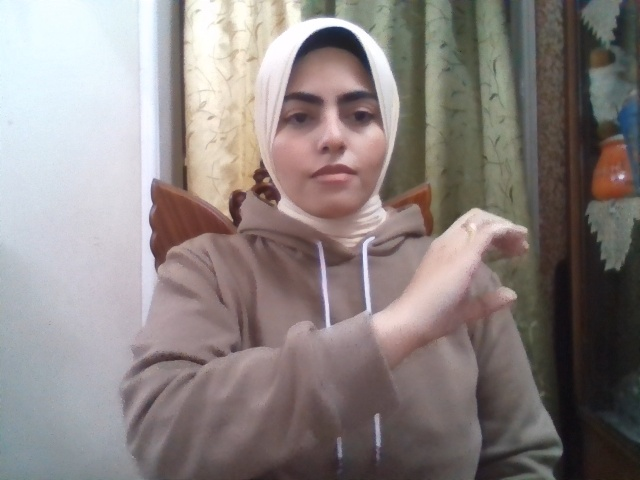C: (401, 207, 529, 341)
